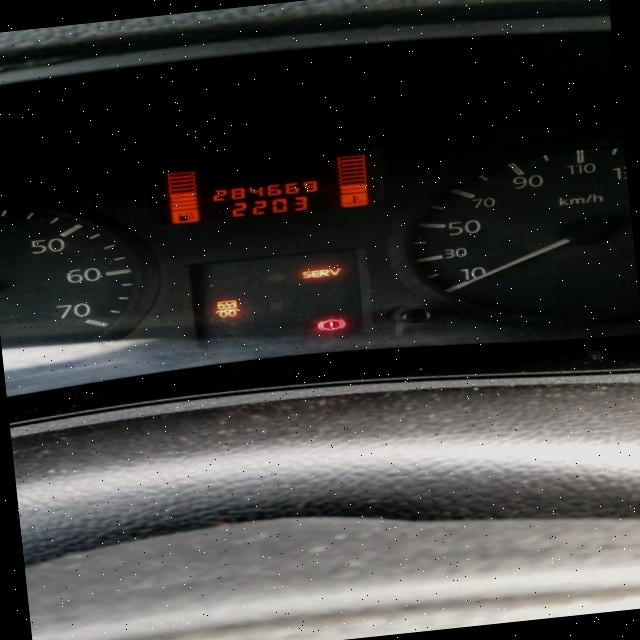odometer: (146, 144, 392, 230)
